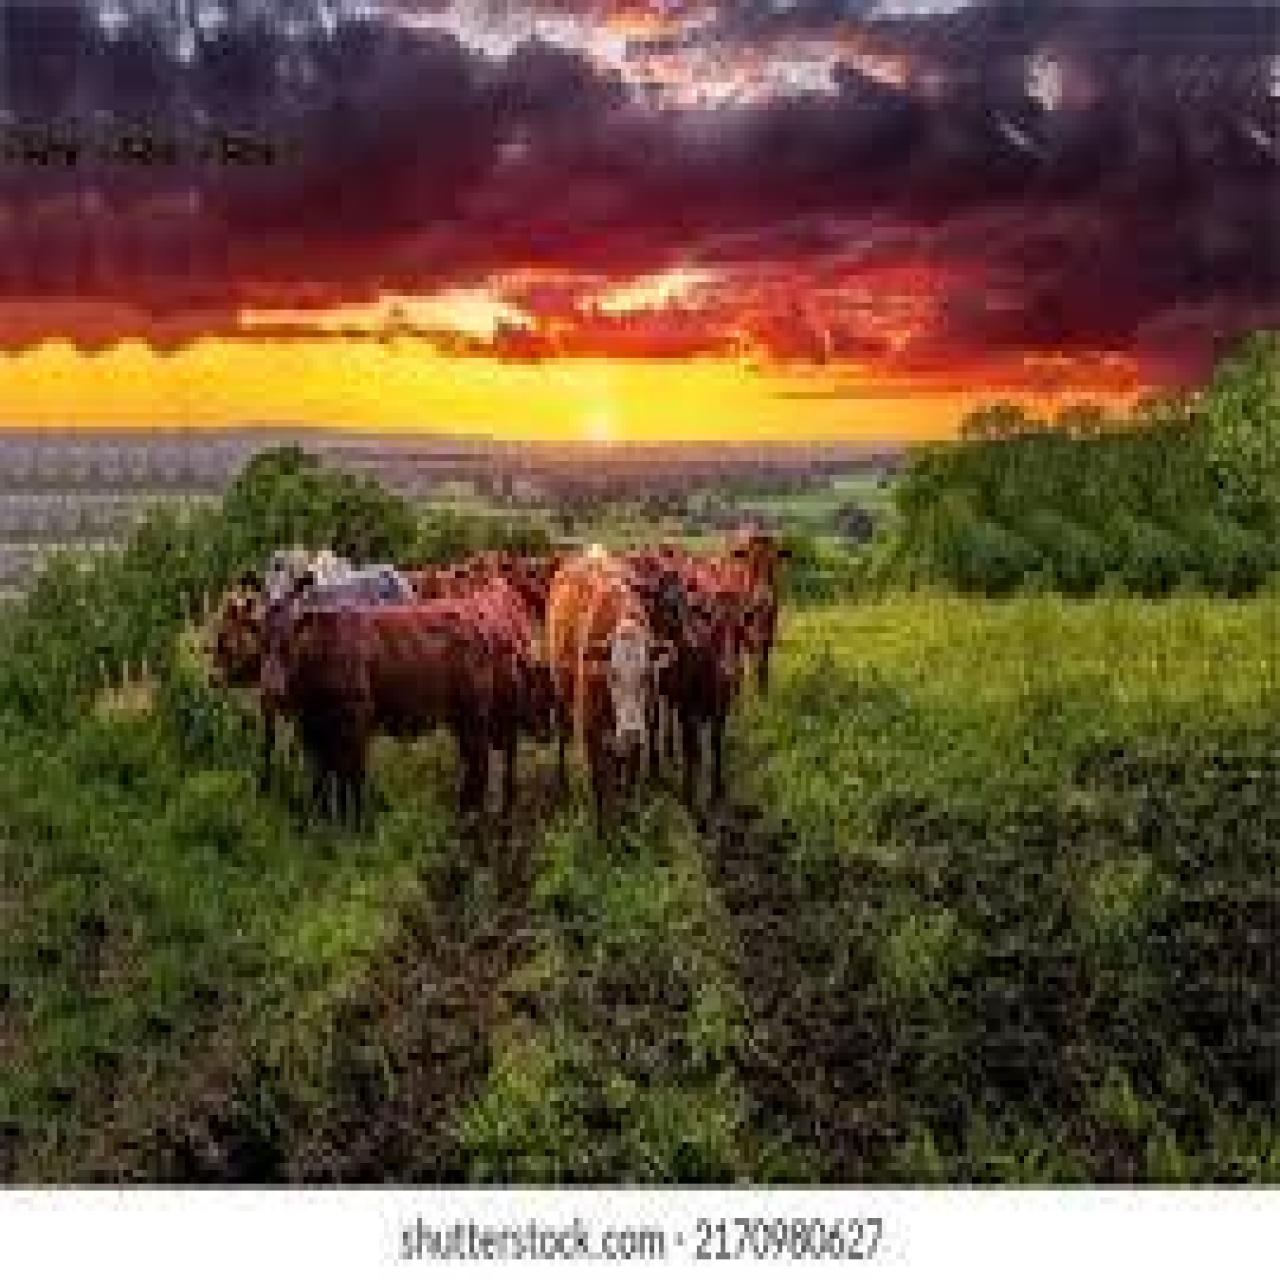cow: (299, 588, 540, 830), (550, 544, 654, 812), (656, 554, 742, 802), (202, 567, 292, 713)
